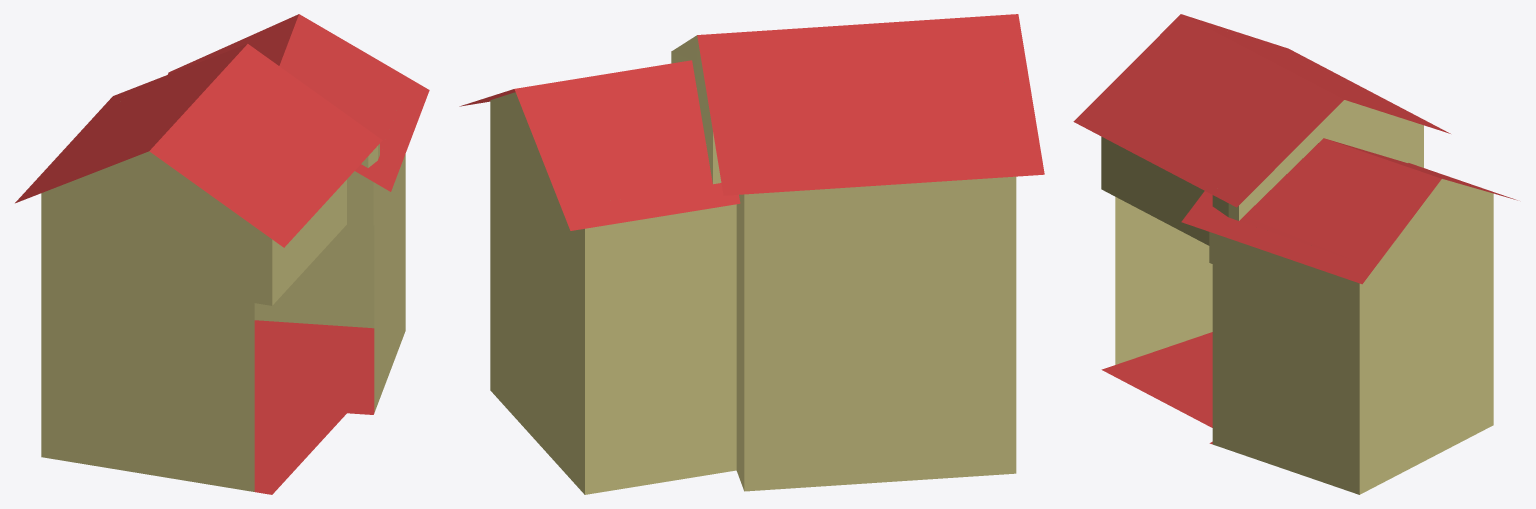
3 views of the same model, side by side, from view 1: azimuth 30°, elevation 25°; view 2: azimuth 150°, elevation 25°; view 3: azimuth 270°, elevation 25° (orthographic). The views are drawn at different scales.
Parts seen in each view (by area): view 1: group_5, group_3, group_9, group_7, group_10, group_6, group_4, group_8; view 2: group_5, group_9, group_3, group_7, group_4; view 3: group_9, group_3, group_5, group_7, group_6, group_4, group_8.
Boxes of the visible parts, <box> form: group_5: <box>41,144,379,491</box>; group_3: <box>41,43,382,247</box>; group_9: <box>254,154,405,412</box>; group_7: <box>168,14,429,191</box>; group_10: <box>254,320,374,414</box>; group_6: <box>254,378,374,494</box>; group_4: <box>15,89,380,247</box>; group_8: <box>172,17,427,191</box>; group_5: <box>671,35,1016,491</box>; group_9: <box>490,92,712,494</box>; group_3: <box>697,14,1017,195</box>; group_7: <box>459,60,740,230</box>; group_4: <box>724,14,1044,195</box>; group_9: <box>1209,179,1493,494</box>; group_3: <box>1074,14,1448,207</box>; group_5: <box>1101,100,1423,453</box>; group_7: <box>1181,138,1517,284</box>; group_6: <box>1101,332,1212,427</box>; group_4: <box>1073,14,1450,206</box>; group_8: <box>1181,190,1500,282</box>.
Bounding box in the file's own units: 18.87 × 16.9 × 13.22.
